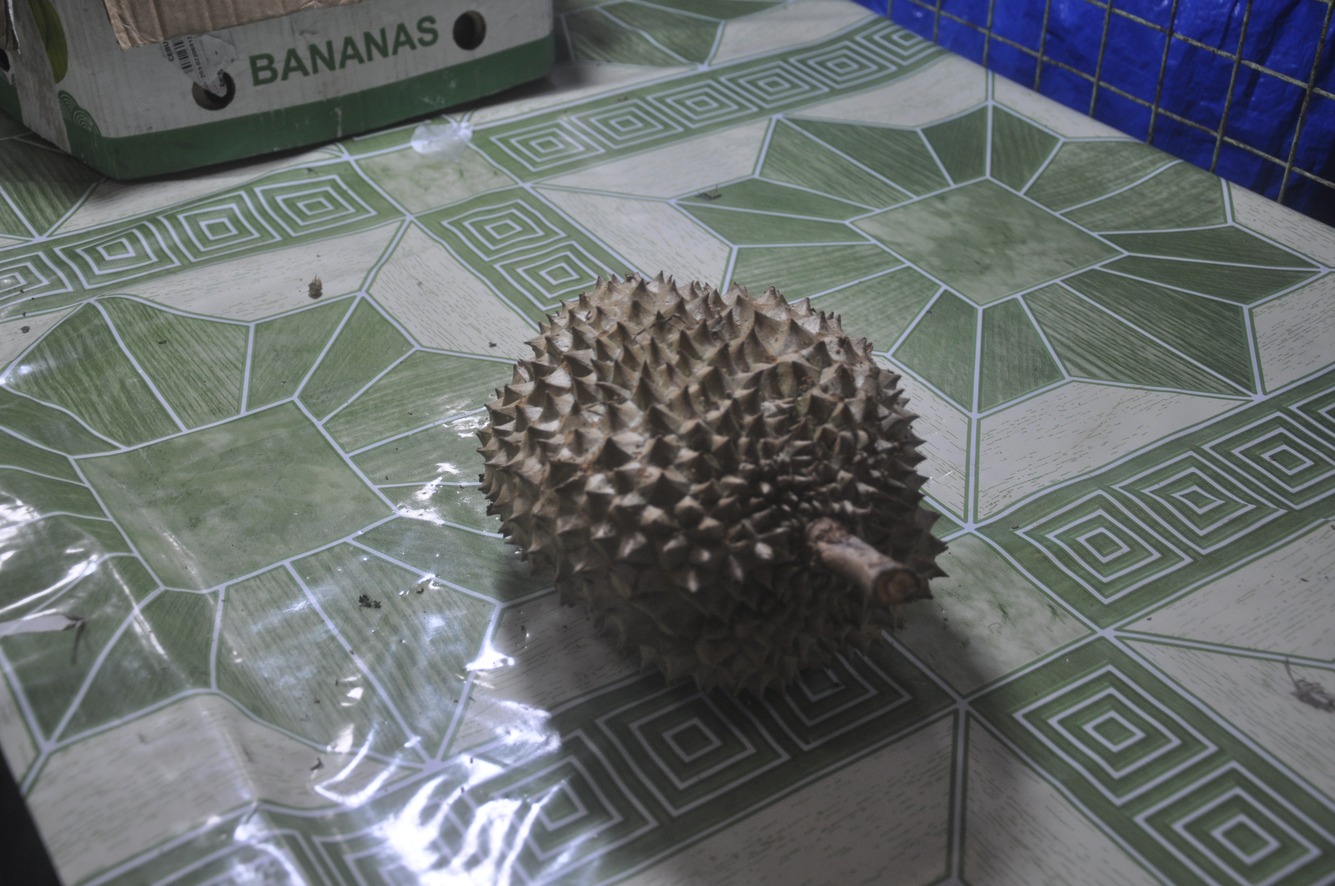mature: (479, 274, 945, 698)
